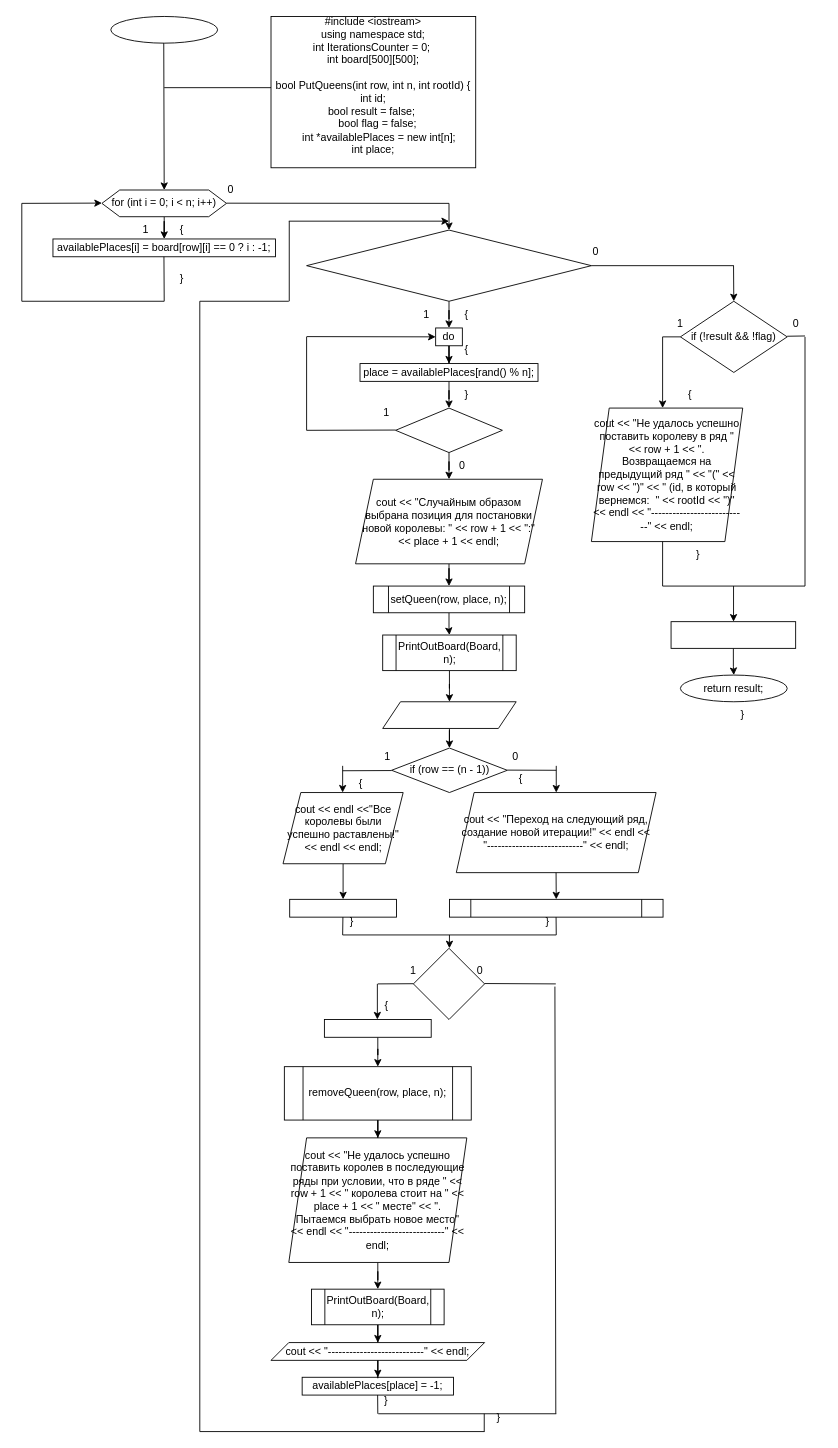
The diagram is 838 pixels wide and 1448 high, and some of its shapes have lost their labels. The shapes that lost their labels are listed below. From the top down, each one's box as (x1, y1, x2, y2) in pixels, then its label:
(110, 16, 218, 43): начало
(306, 229, 591, 301): while (!result && safeCheck(&availablePlaces[0], n))
(395, 407, 502, 453): while (place == -1);
(670, 621, 796, 648): delete[] availablePlaces;
(382, 701, 516, 728): cout << endl << endl;
(289, 898, 396, 917): result = true;
(449, 898, 663, 917): result = PutQueens(row + 1, n, id);
(413, 947, 485, 1019): if (!result)
(324, 1019, 431, 1037): flag = true;
